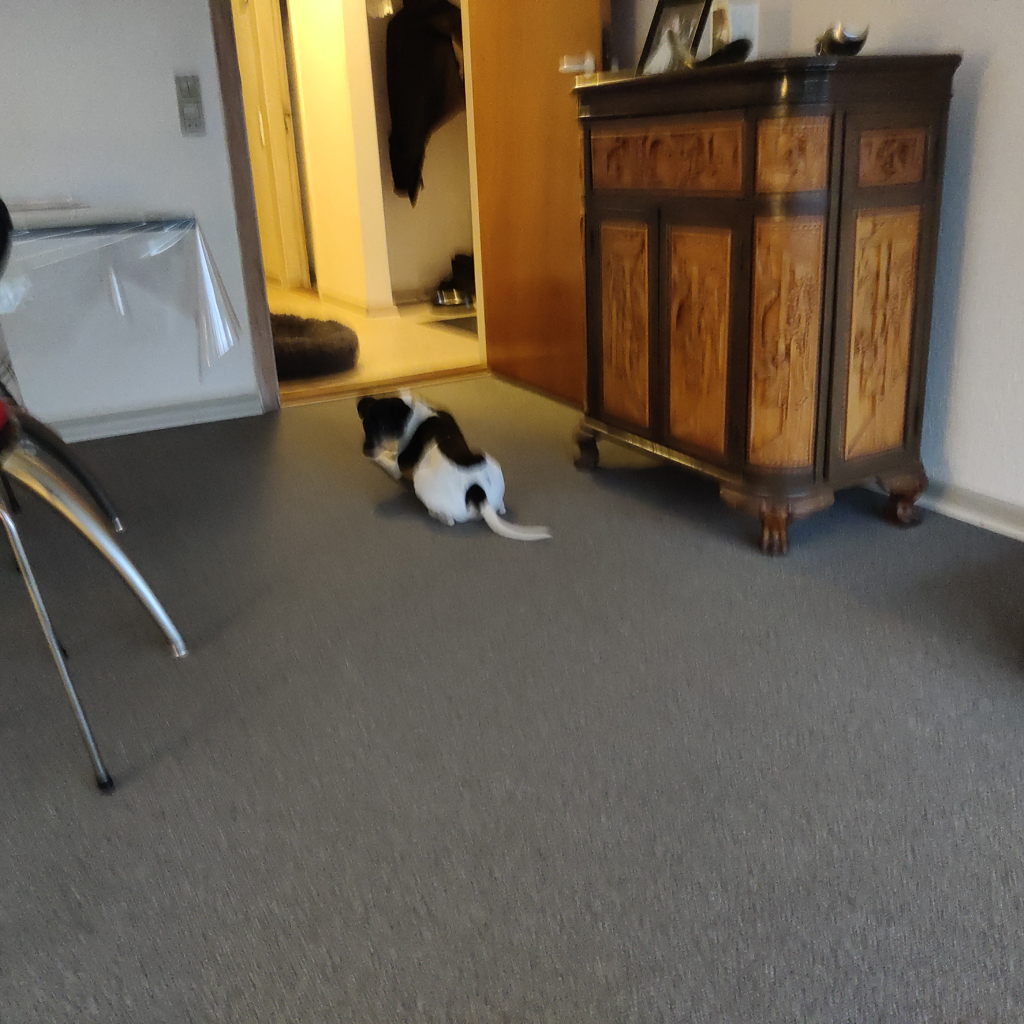Dog: (350, 377, 564, 544)
